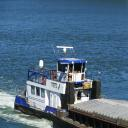tugboat: (15, 45, 102, 126)
